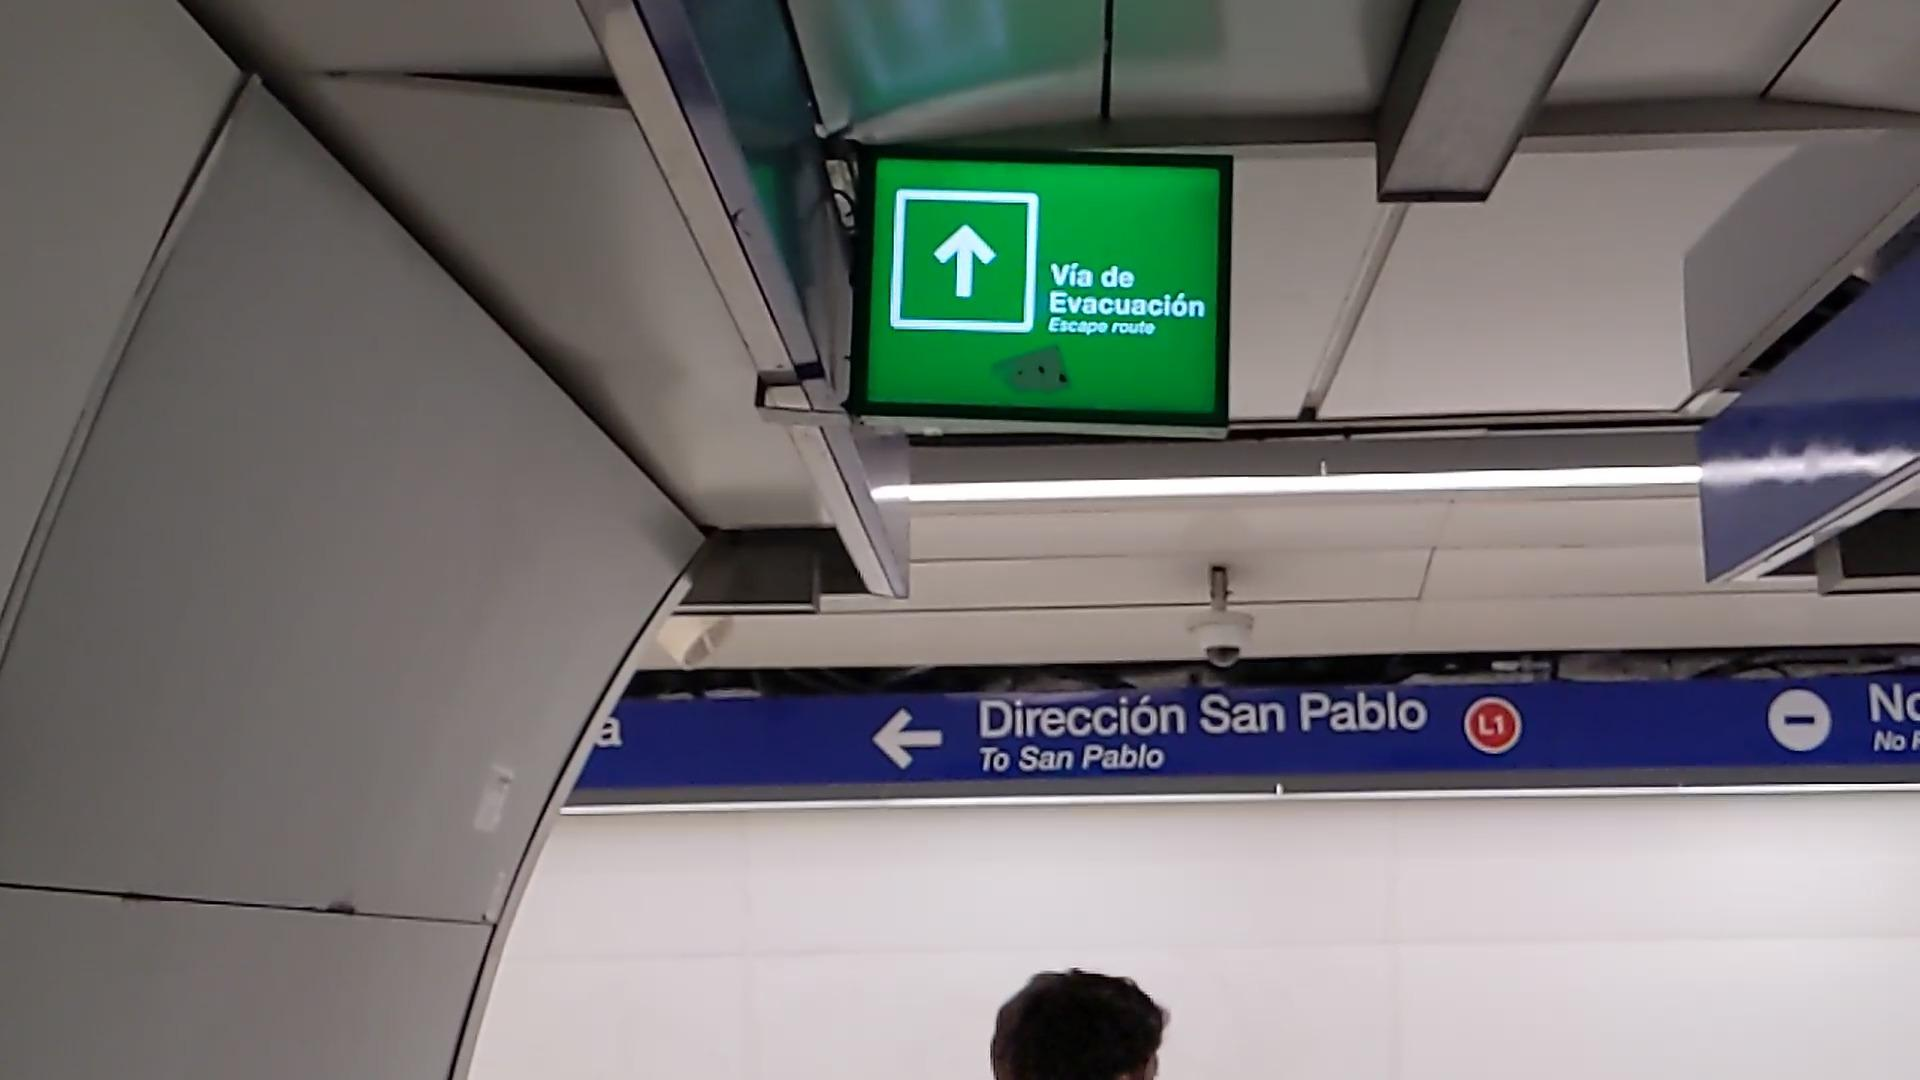emergency up arrow: (926, 219, 1001, 303)
left arrow: (868, 702, 947, 777)
